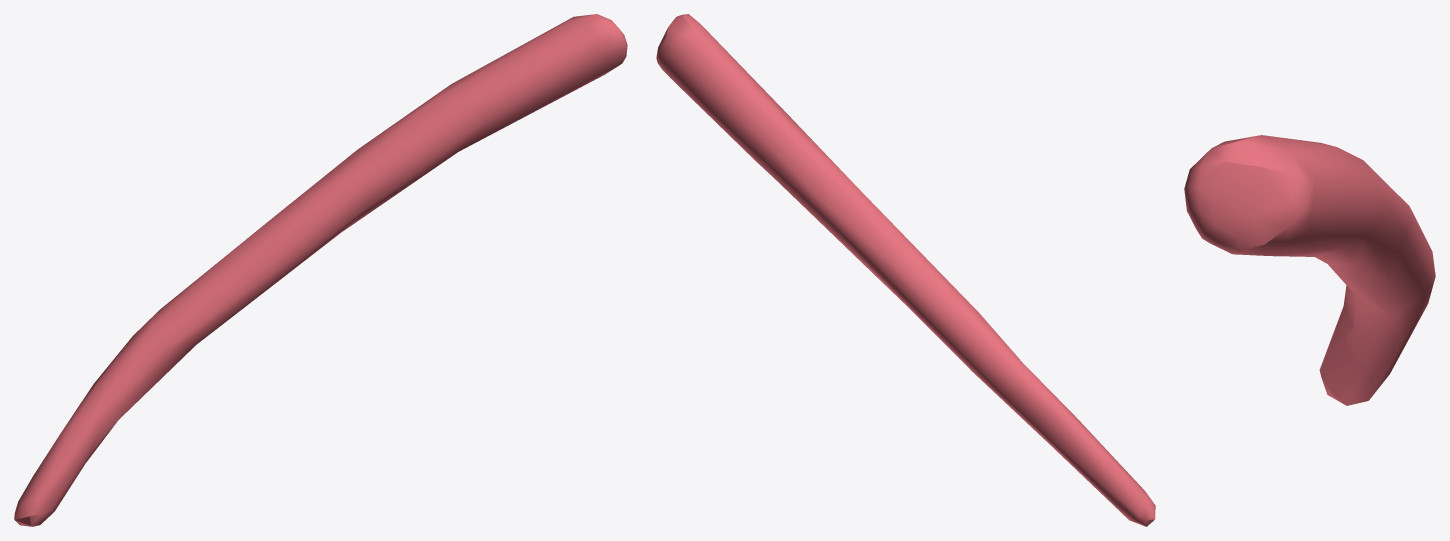
Rendered from fma9428_fj3047.glb.
3 renders of one model, left to right at view 1: azimuth 30°, elevation 25°; view 2: azimuth 150°, elevation 25°; view 3: azimuth 270°, elevation 25°, orthographic. The views are drawn at different scales.
Visible parts, largest first — view 1: FMA9428_FJ3047; view 2: FMA9428_FJ3047; view 3: FMA9428_FJ3047.
Boxes of the visible parts, <box> form: FMA9428_FJ3047: <box>14,14,627,526</box>; FMA9428_FJ3047: <box>656,14,1155,526</box>; FMA9428_FJ3047: <box>1184,135,1435,405</box>.
Size of the model in its own units: 0.0335 by 0.0227 by 0.00701.
